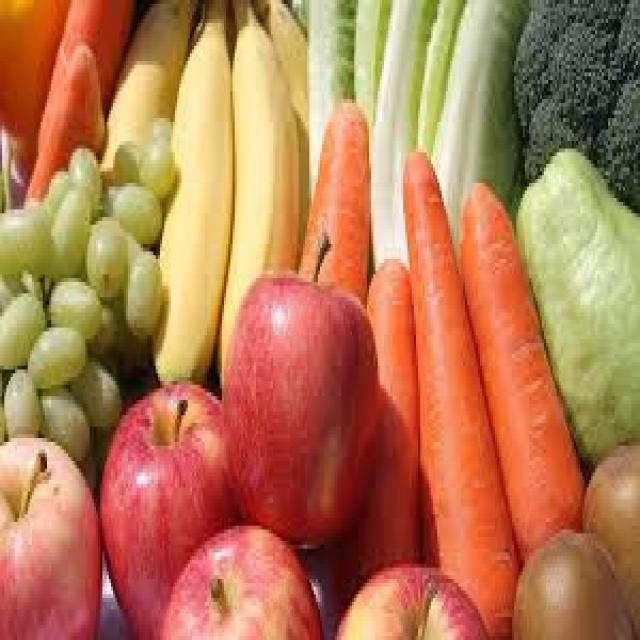organic waste: (397, 141, 514, 636), (456, 171, 586, 560), (220, 232, 375, 545), (514, 145, 638, 461), (100, 374, 222, 636), (216, 0, 296, 396), (150, 0, 228, 381), (508, 0, 638, 221), (337, 252, 420, 598), (430, 0, 520, 251), (374, 0, 456, 263), (0, 431, 98, 636), (160, 518, 316, 636), (96, 0, 198, 175), (299, 96, 369, 332), (34, 0, 137, 160), (510, 522, 636, 636), (352, 0, 401, 267), (303, 0, 350, 278), (26, 38, 104, 198), (0, 0, 72, 171), (328, 560, 488, 636), (580, 442, 638, 636), (258, 0, 305, 225), (44, 270, 106, 343), (122, 240, 164, 335), (38, 381, 92, 453), (103, 175, 162, 236), (49, 187, 90, 274), (107, 179, 160, 244), (83, 213, 124, 297), (0, 286, 43, 366), (26, 324, 85, 381), (70, 358, 118, 423), (0, 205, 36, 278), (0, 361, 36, 430), (66, 141, 100, 209), (139, 137, 177, 194), (28, 198, 55, 278), (85, 297, 122, 351), (109, 133, 141, 179), (7, 148, 26, 206), (77, 442, 96, 484), (143, 110, 168, 141), (43, 168, 64, 198), (124, 232, 138, 259)
